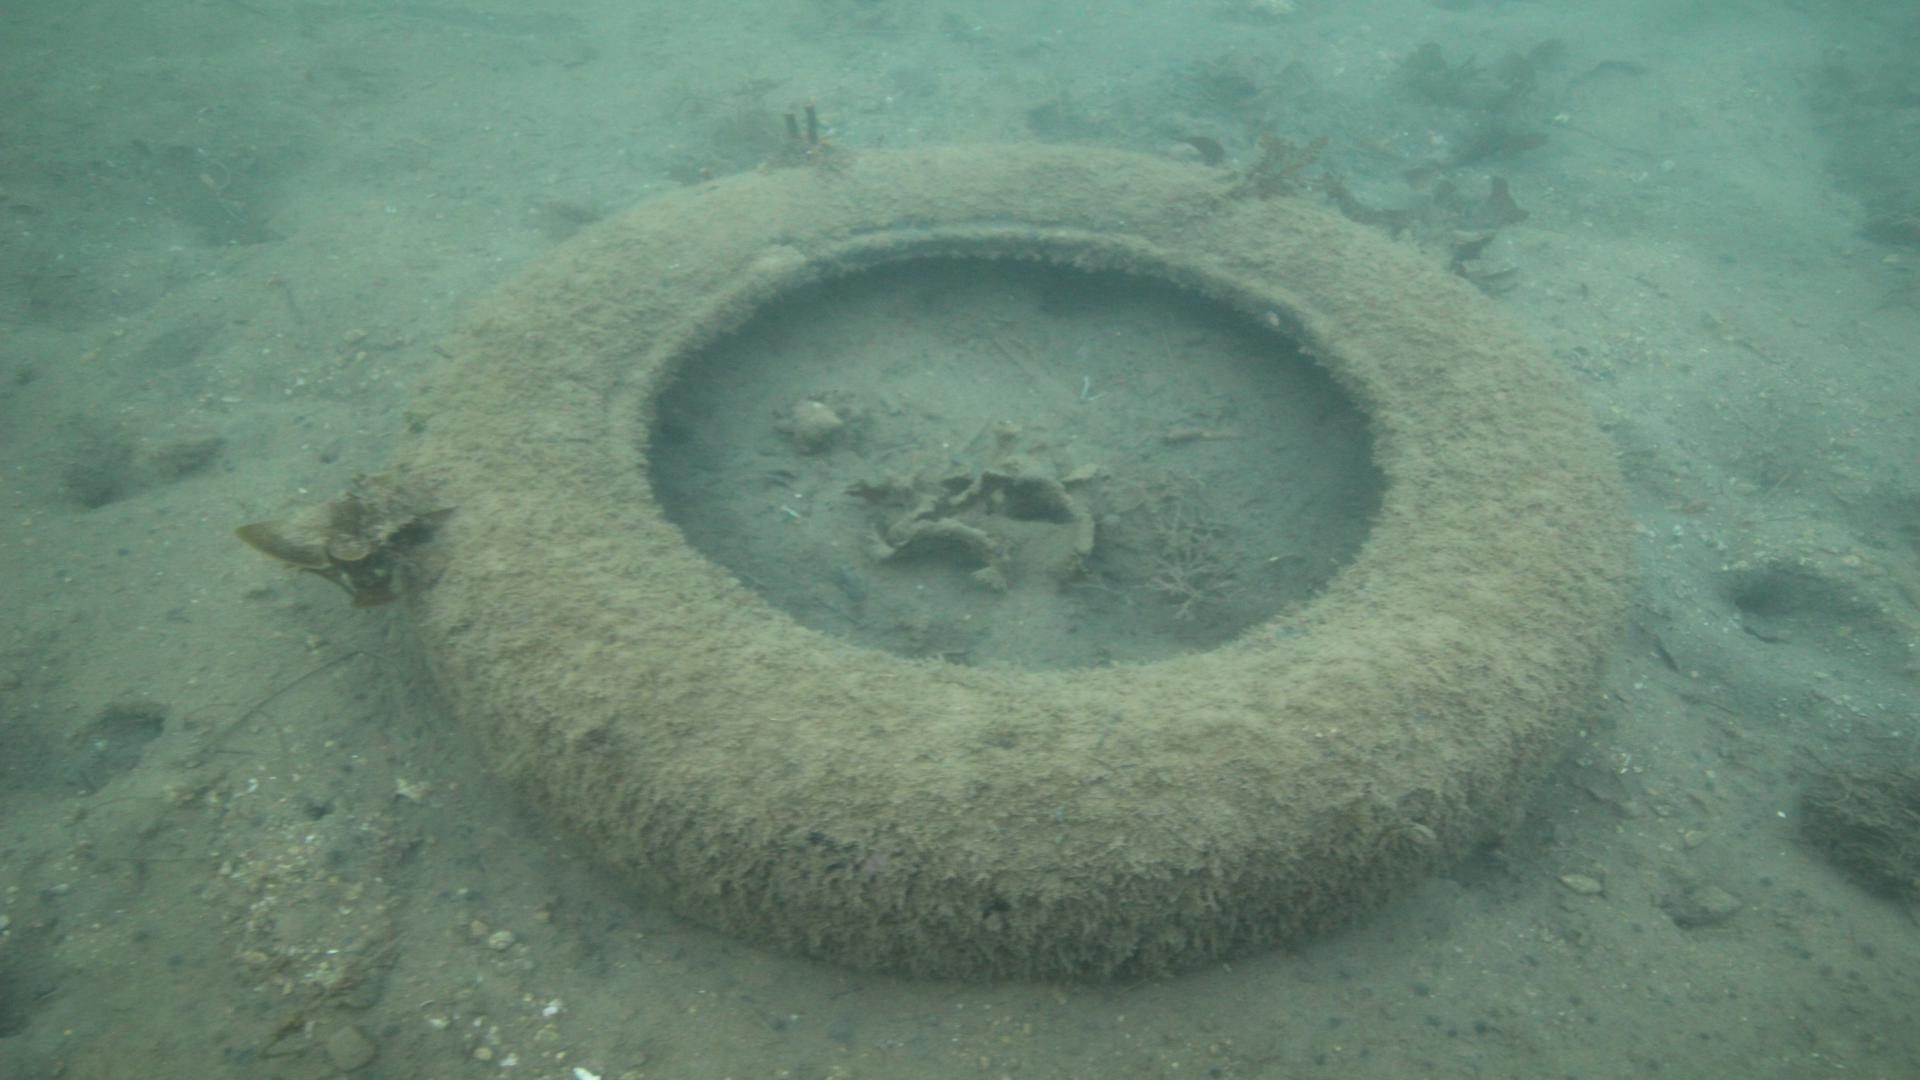tire: (392, 142, 1627, 982)
